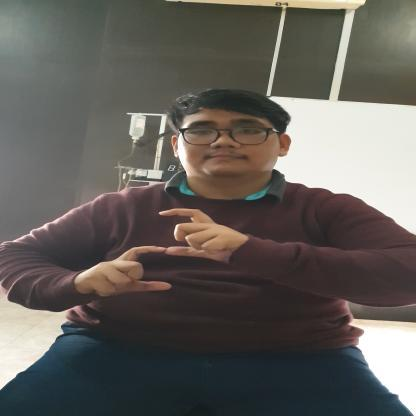S: (82, 207, 235, 302)
